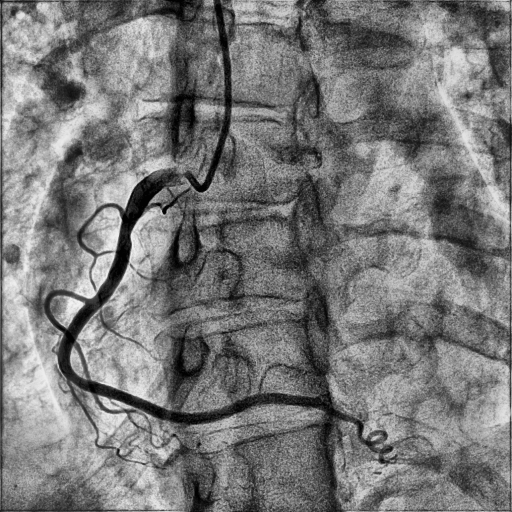pda: (258, 393, 392, 454)
rca: (57, 166, 259, 424)
